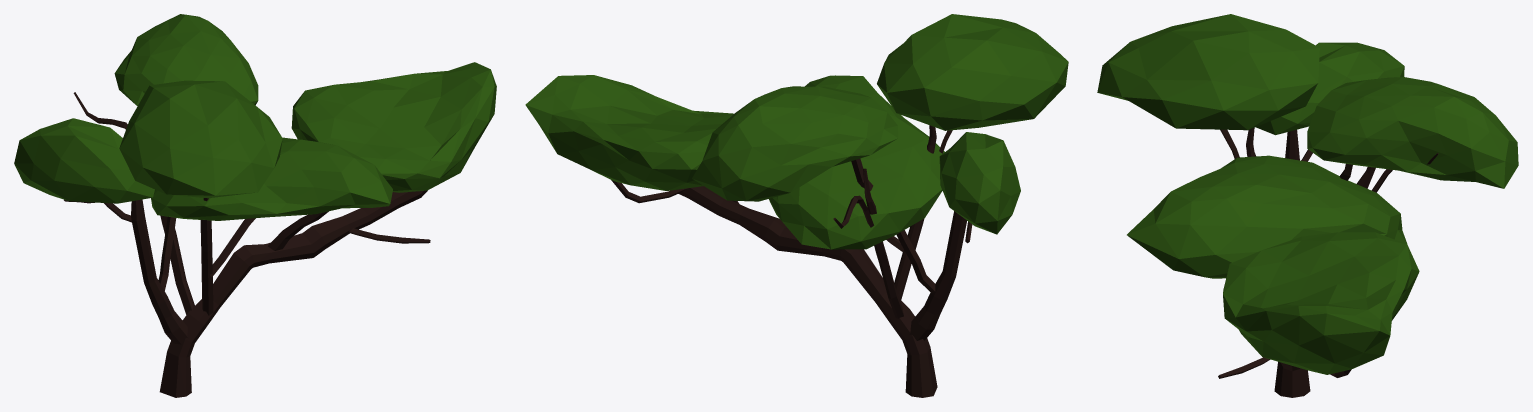
The model's file is SM_tree_b_02.FBX.
3 renders of one model, left to right at view 1: azimuth 30°, elevation 25°; view 2: azimuth 150°, elevation 25°; view 3: azimuth 270°, elevation 25°, orthographic. The views are drawn at different scales.
Parts seen in each view (by area): view 1: Object034; view 2: Object034; view 3: Object034.
Part boxes in pixels (x1,y1,x2,y2): Object034: [14, 14, 496, 397]; Object034: [525, 14, 1068, 397]; Object034: [1097, 14, 1518, 397].
Size of the model in its own units: 1097 by 742 by 790.
